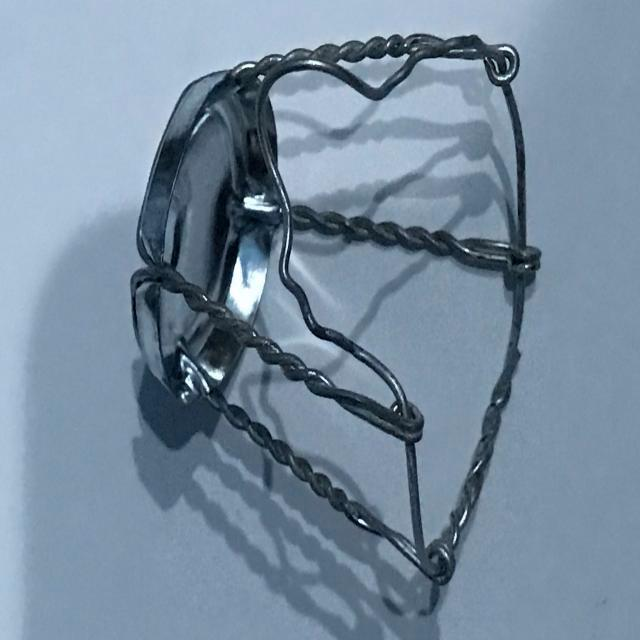metal: (115, 20, 568, 616)
